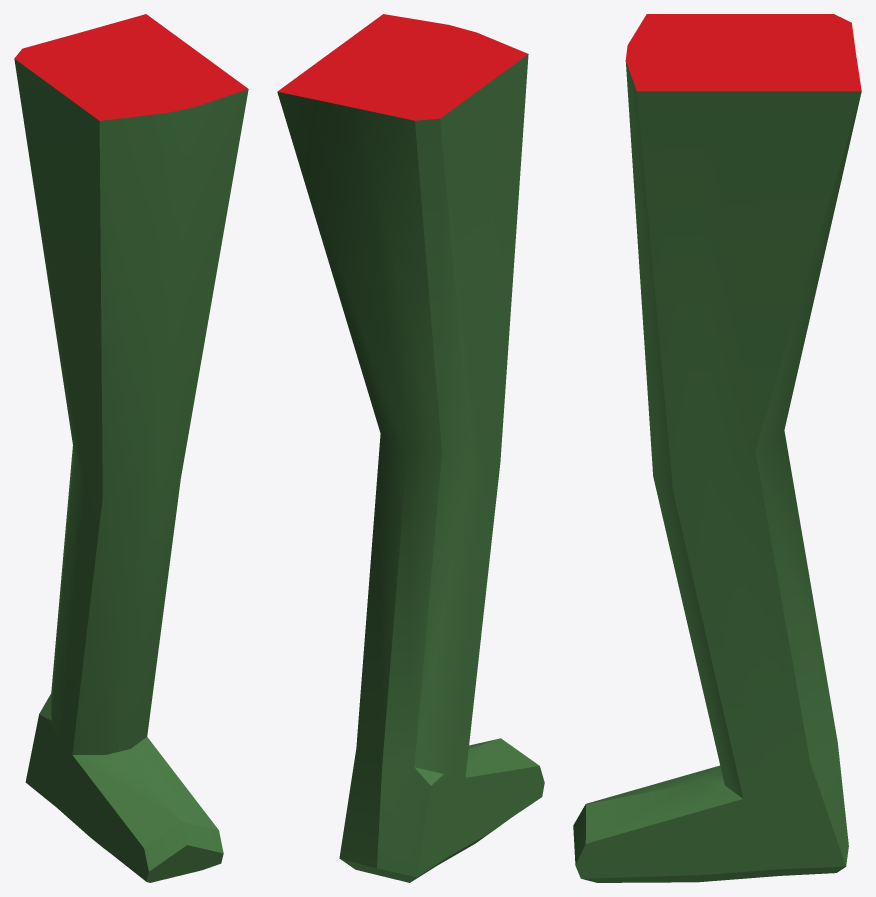
The model's file is right_leg.fbx.
The picture shows the model from 3 angles, left to right: view 1: azimuth 30°, elevation 25°; view 2: azimuth 150°, elevation 25°; view 3: azimuth 270°, elevation 25°; orthographic projection. The views are drawn at different scales.
Visible parts, largest first — view 1: Right Leg; view 2: Right Leg; view 3: Right Leg.
Boxes of the visible parts, bbox=[...] form: Right Leg: bbox=[14, 14, 248, 882]; Right Leg: bbox=[277, 14, 544, 882]; Right Leg: bbox=[573, 14, 861, 882].
Bounding box in the file's own units: 43.05 × 214 × 67.77.
